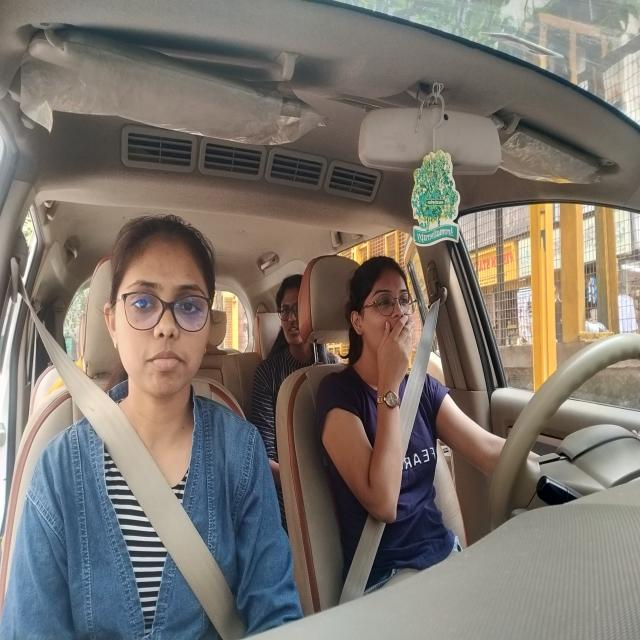drowsy: (350, 252, 420, 374)
person: (105, 213, 217, 405), (278, 272, 308, 342)
